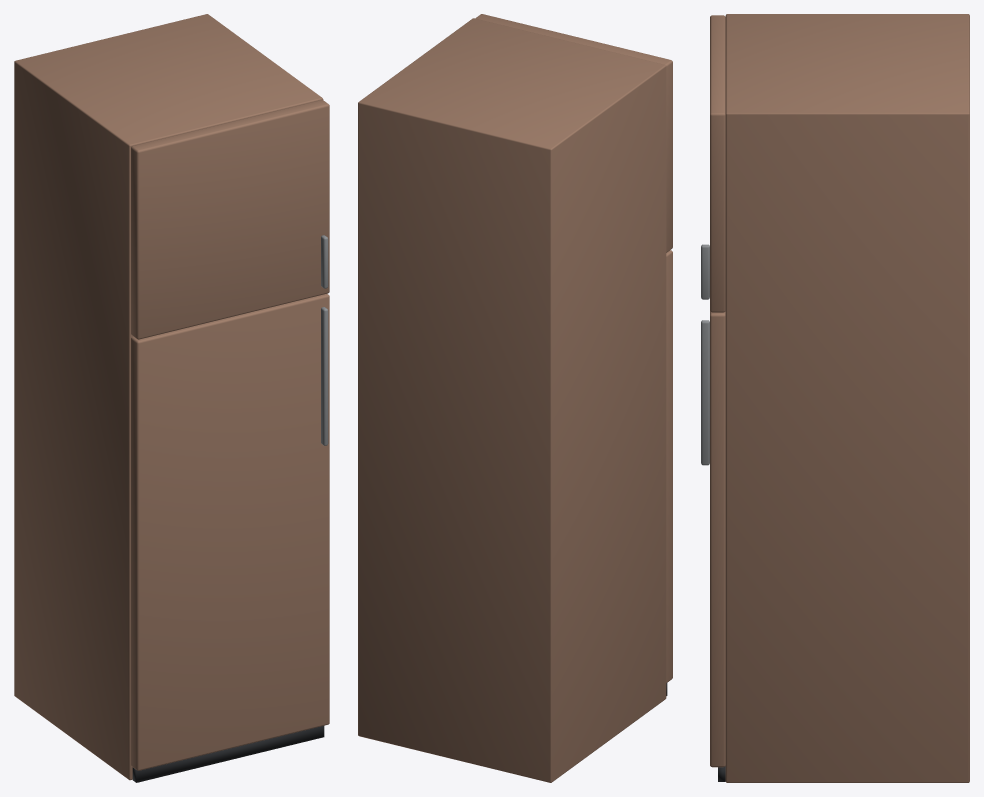
File: Q343GIC183S.glb
3 views of the same model, side by side, from view 1: azimuth 30°, elevation 25°; view 2: azimuth 150°, elevation 25°; view 3: azimuth 270°, elevation 25° (orthographic). The views are drawn at different scales.
Parts seen in each view (by area): view 1: Q343GIC183S; view 2: Q343GIC183S; view 3: Q343GIC183S.
Part boxes in pixels (x1,y1,x2,y2): Q343GIC183S: (14, 14, 329, 782); Q343GIC183S: (358, 14, 672, 782); Q343GIC183S: (701, 14, 969, 782).
Size of the model in its own units: 0.595 by 1.86 by 0.676.
